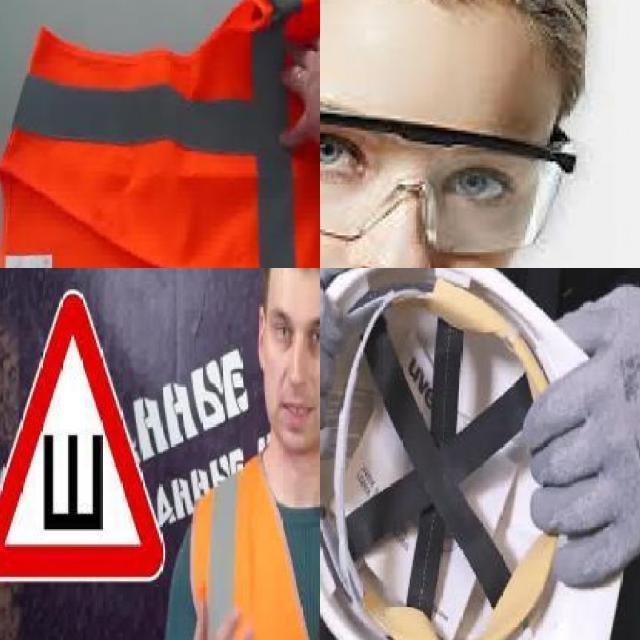apron: (523, 283, 640, 590), (320, 268, 362, 479)
